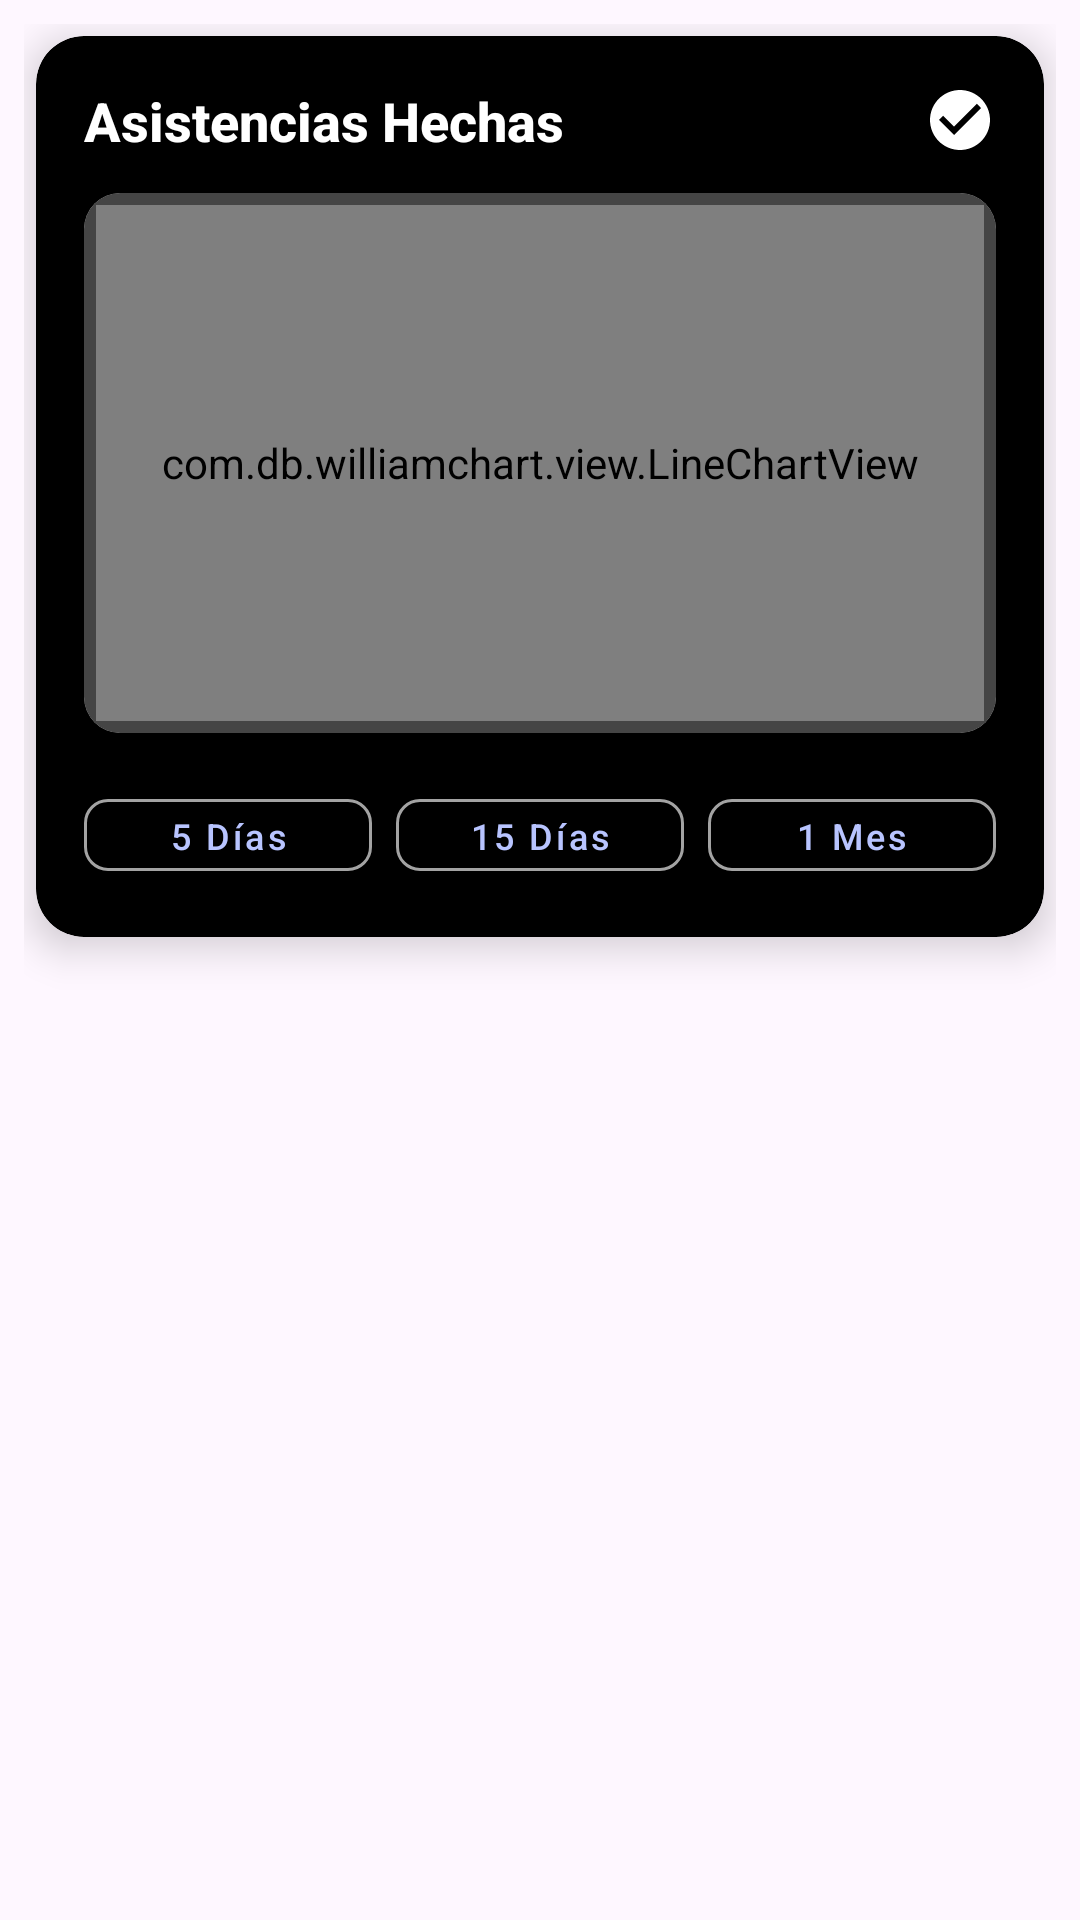

Icons on this 1080*1920 Android screen, each with its box as (x1, y1, x2, y2):
check: (930, 90, 990, 150)
